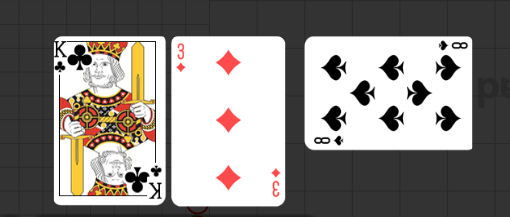8S: (313, 135, 347, 148), (437, 41, 470, 53)
